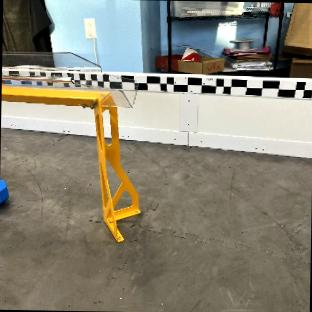Goal: (1, 77, 139, 240)
V5_BLUE: (0, 179, 9, 204)
